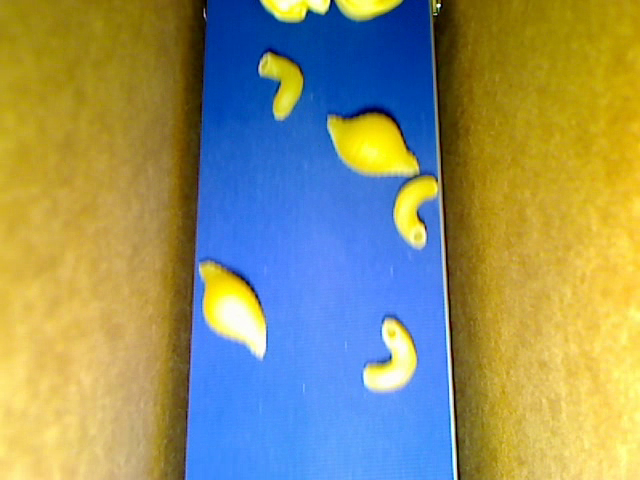elbow: (362, 316, 417, 392), (392, 174, 437, 249), (257, 53, 302, 119)
shell: (198, 258, 268, 360), (326, 113, 420, 176)
tortellini: (259, 1, 330, 24), (334, 1, 403, 23)
